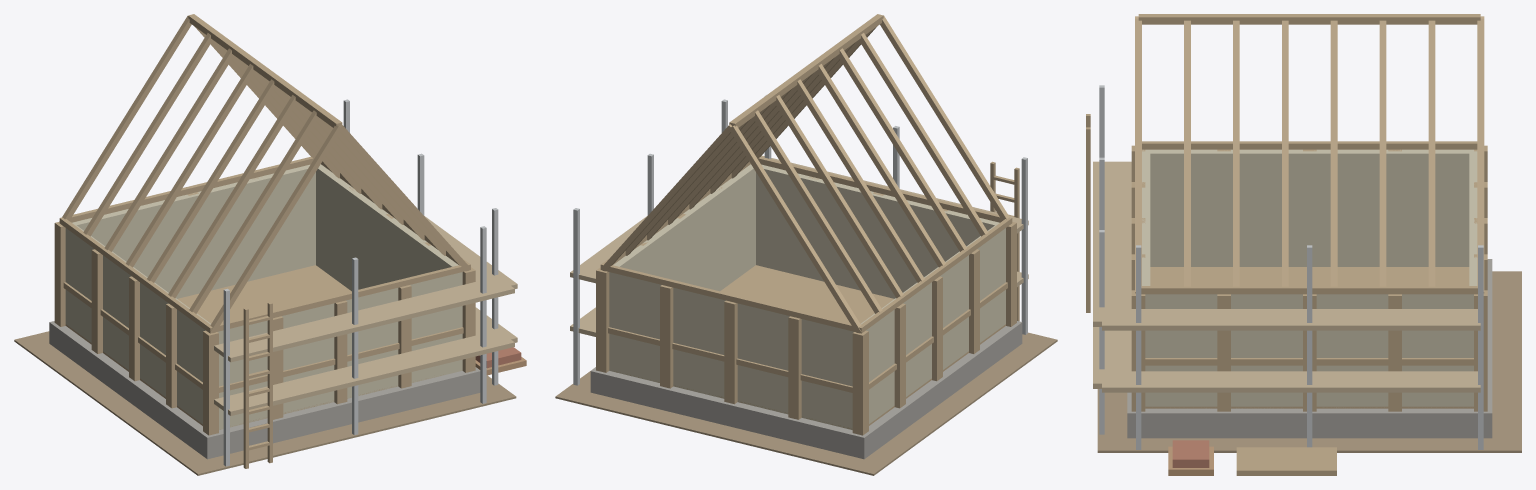
The model's file is nursery_barn_site_9.glb.
The picture shows the model from 3 angles, left to right: view 1: azimuth 30°, elevation 25°; view 2: azimuth 150°, elevation 25°; view 3: azimuth 270°, elevation 25°; orthographic projection. The views are drawn at different scales.
Parts seen in each view (by area): view 1: body; view 2: body; view 3: body.
Boxes of the visible parts, <box> form: body: <box>14,14,526,475</box>; body: <box>555,14,1057,475</box>; body: <box>1086,14,1521,475</box>.
Bounding box in the file's own units: 2.1 × 1.68 × 1.91.
